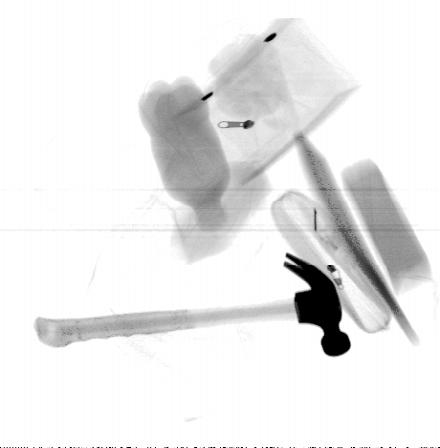Hammer: (32, 252, 351, 356)
